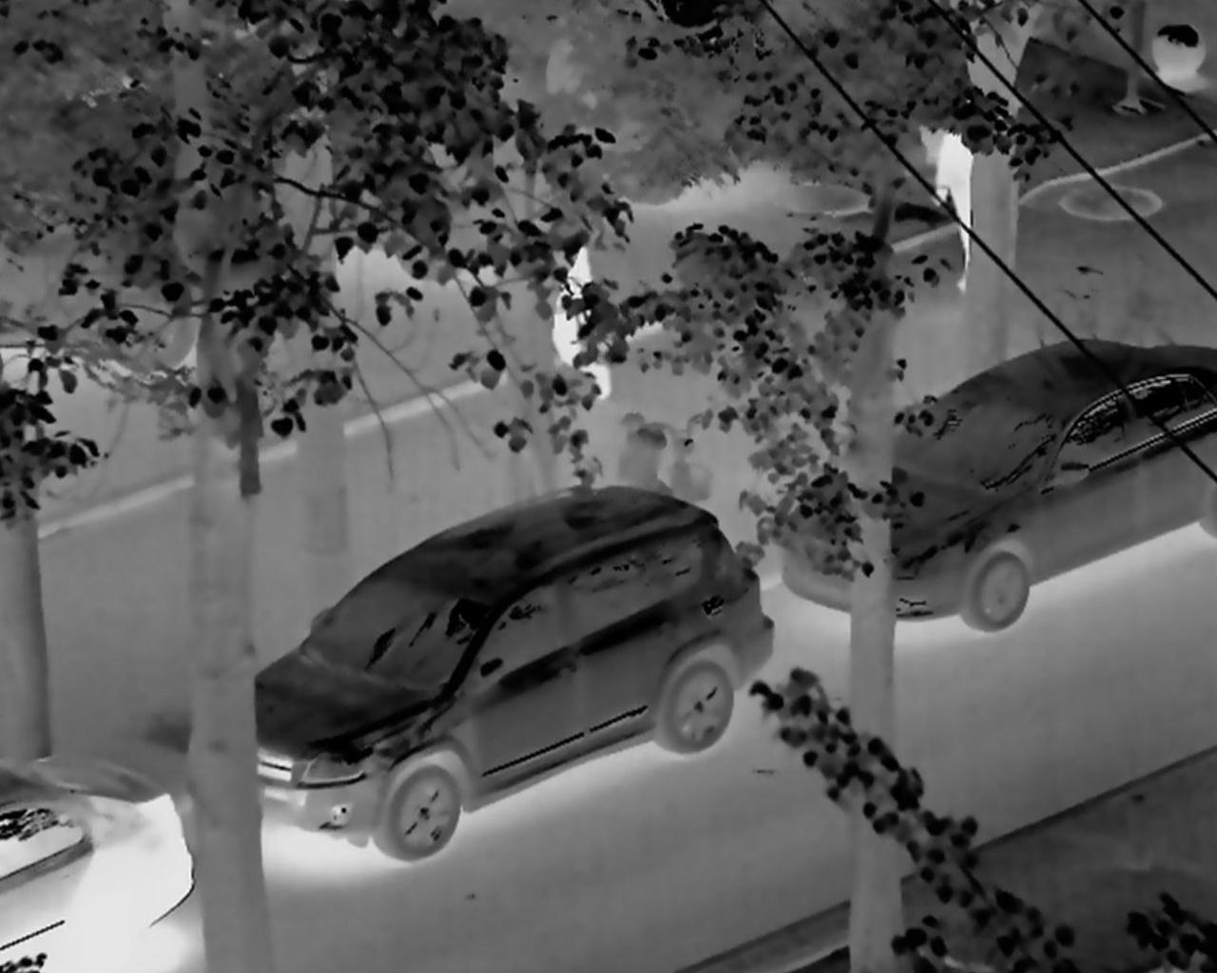person: (919, 85, 1003, 300), (549, 211, 609, 395)
